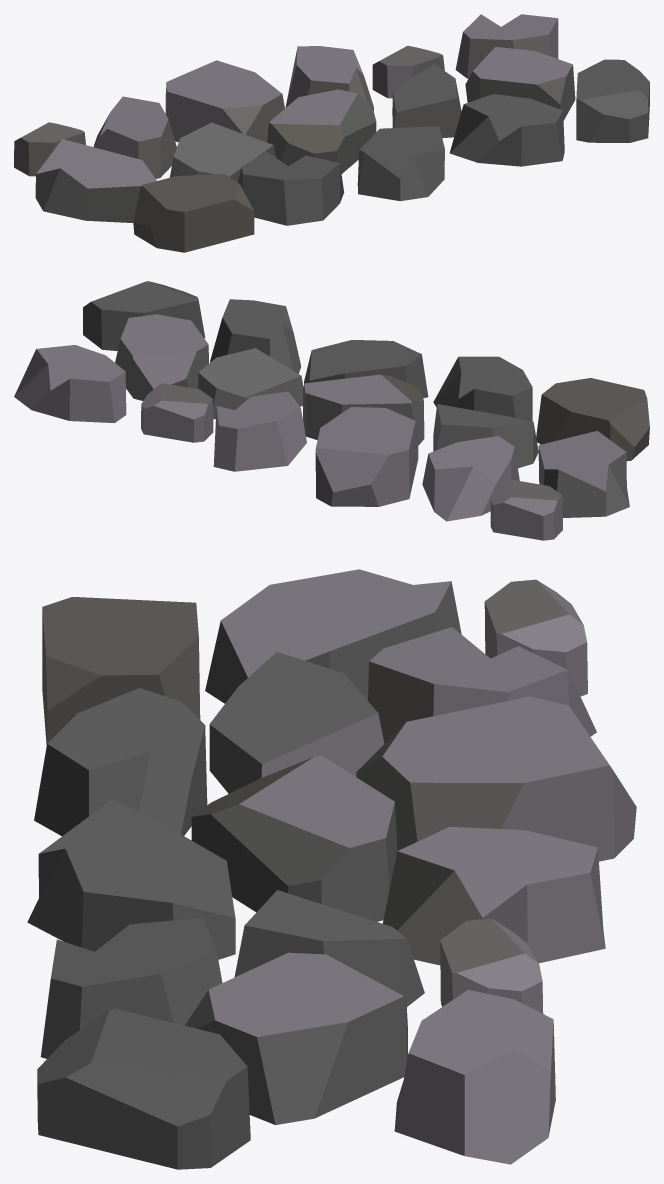
Rendered from pebble.fbx.
3 views of the same model, one above another, from view 1: azimuth 30°, elevation 25°; view 2: azimuth 150°, elevation 25°; view 3: azimuth 270°, elevation 25° (orthographic). The views are drawn at different scales.
Parts seen in each view (by area): view 1: Cube.007, Cube.014, Cube.020, Cube.016, Cube.012, Cube.008, Cube.010, Cube.043, Cube.021, Cube.015, Cube.013, Cube.009 (+4 smaller); view 2: Cube.016, Cube.009, Cube.007, Cube.014, Cube.017, Cube.015, Cube.021, Cube.008, Cube.012, Cube.043, Cube.018, Cube.010 (+4 smaller); view 3: Cube.016, Cube.043, Cube.021, Cube.012, Cube.017, Cube.009, Cube.010, Cube.014, Cube.008, Cube.007, Cube.013, Cube.020 (+4 smaller).
Part boxes in pixels (x1,y1,x2,y2): Cube.007: (133, 174, 254, 252); Cube.014: (35, 139, 156, 222); Cube.020: (449, 94, 564, 166); Cube.016: (165, 60, 284, 142); Cube.012: (267, 89, 376, 173); Cube.008: (238, 151, 344, 225); Cube.010: (357, 126, 444, 201); Cube.043: (576, 59, 649, 142); Cube.021: (465, 46, 575, 120); Cube.015: (93, 96, 176, 178); Cube.013: (170, 122, 275, 182); Cube.009: (455, 14, 558, 78); Cube.016: (315, 407, 418, 506); Cube.009: (14, 345, 126, 423); Cube.007: (536, 378, 649, 461); Cube.014: (538, 431, 629, 517); Cube.017: (213, 391, 306, 471); Cube.015: (422, 436, 519, 521); Cube.021: (115, 314, 208, 400); Cube.008: (433, 356, 532, 421); Cube.012: (303, 374, 424, 445); Cube.043: (83, 281, 205, 350); Cube.018: (198, 348, 303, 419); Cube.010: (304, 340, 428, 398); Cube.016: (356, 696, 636, 861); Cube.043: (37, 1008, 250, 1169); Cube.021: (185, 952, 407, 1124); Cube.012: (191, 756, 397, 921); Cube.017: (382, 826, 605, 965); Cube.009: (394, 990, 555, 1164); Cube.010: (27, 799, 235, 959); Cube.014: (205, 569, 461, 703); Cube.008: (34, 688, 207, 836); Cube.007: (42, 597, 200, 744); Cube.013: (209, 652, 384, 793); Cube.020: (40, 917, 222, 1058).
Size of the model in its own units: 213 by 17.59 by 99.72.
